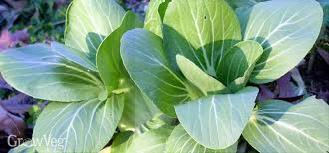Healthy-Pechay: (0, 10, 323, 150), (18, 72, 97, 102), (233, 2, 259, 37)
